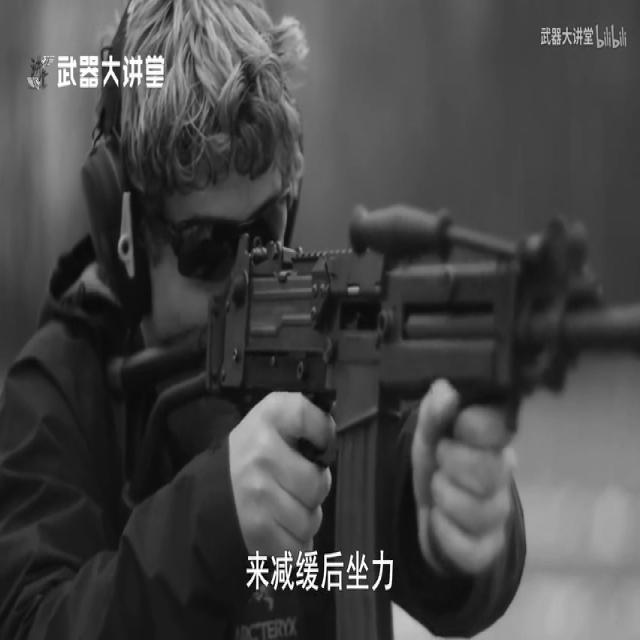Sniper: (115, 36, 640, 640)
